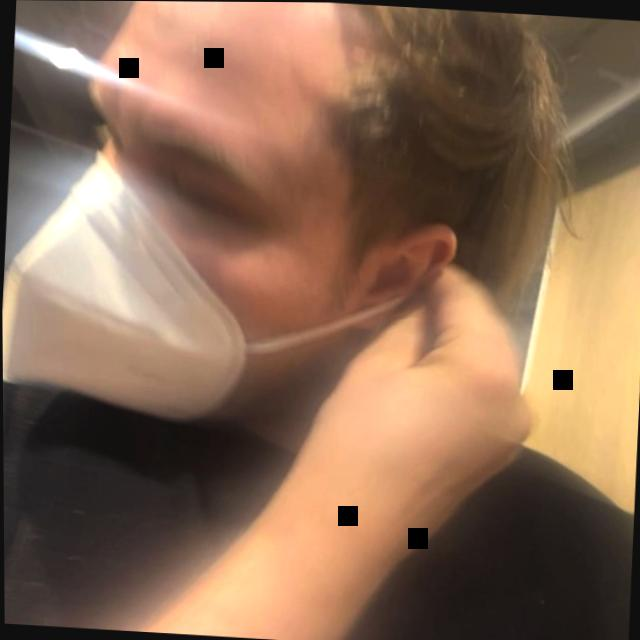Mask: (0, 0, 549, 485)
